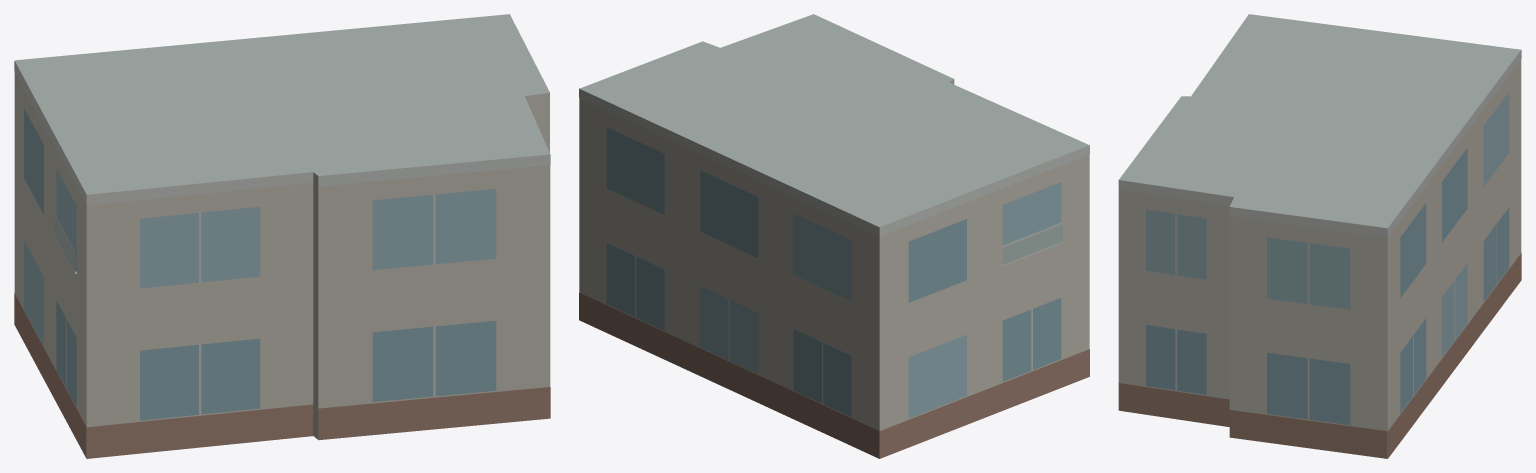
File: survey-upis-32666743.glb
The picture shows the model from 3 angles, left to right: view 1: azimuth 30°, elevation 25°; view 2: azimuth 150°, elevation 25°; view 3: azimuth 270°, elevation 25°; orthographic projection. The views are drawn at different scales.
Visible parts, largest first — view 1: survey-upis-32666743.tmp; view 2: survey-upis-32666743.tmp; view 3: survey-upis-32666743.tmp.
Part boxes in pixels (<box>): survey-upis-32666743.tmp: <box>14,14,550,458</box>; survey-upis-32666743.tmp: <box>579,14,1089,458</box>; survey-upis-32666743.tmp: <box>1118,14,1521,458</box>.
Bounding box in the file's own units: 12.16 × 6.1 × 9.66.
